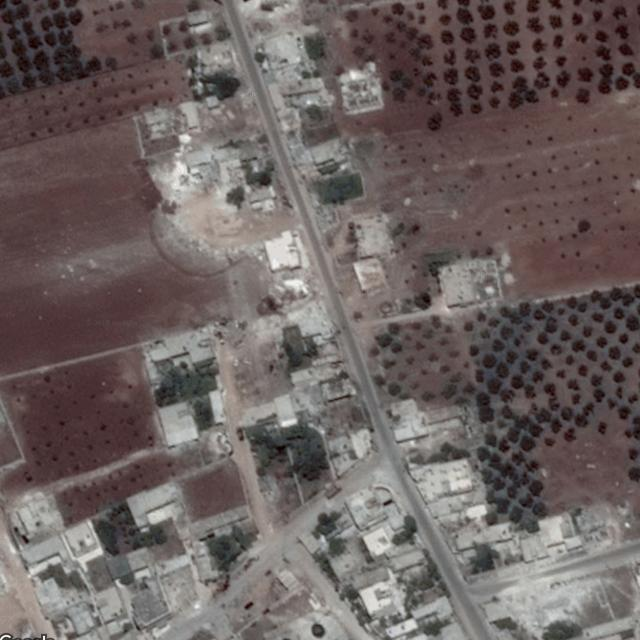damaged_building: (481, 581, 600, 636), (282, 300, 340, 341)
